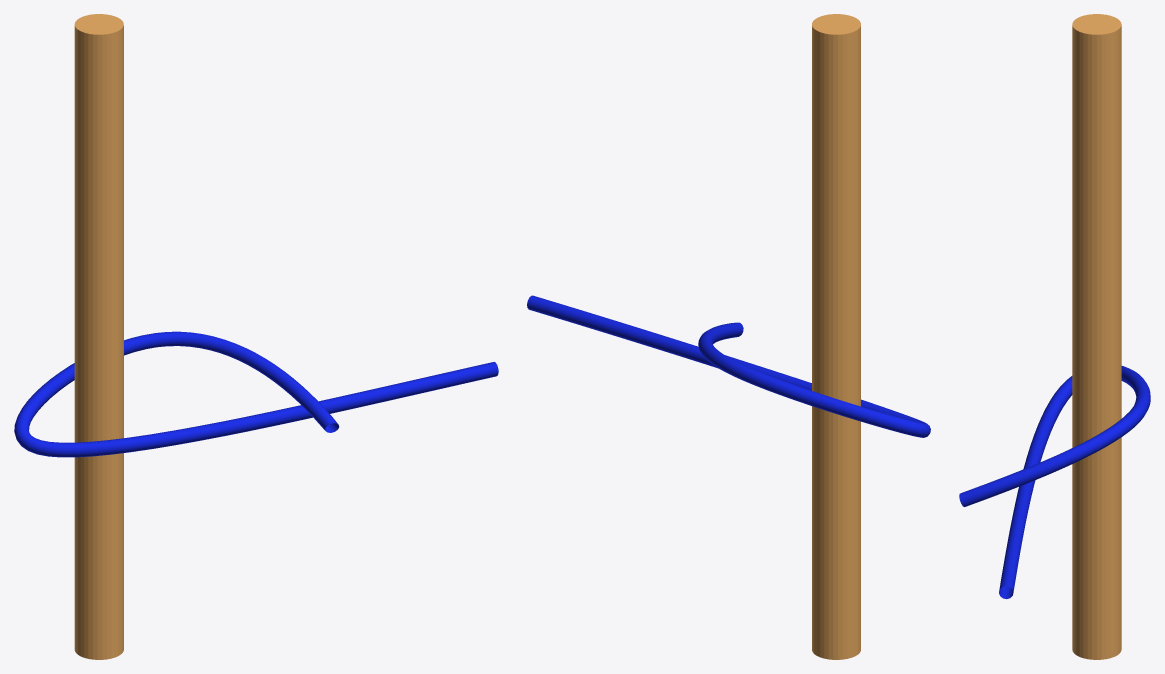
Rendered from TwoHalfHitchState3.dae.
3 views of the same model, side by side, from view 1: azimuth 30°, elevation 25°; view 2: azimuth 150°, elevation 25°; view 3: azimuth 270°, elevation 25° (orthographic).
Visible parts, largest first — view 1: Cylinder, NurbsCurve.001; view 2: Cylinder, NurbsCurve.001; view 3: Cylinder, NurbsCurve.001.
Boxes of the visible parts, x1,y1,x2,y2 form: Cylinder: [74, 14, 123, 659]; NurbsCurve.001: [14, 331, 498, 457]; Cylinder: [812, 14, 860, 659]; NurbsCurve.001: [527, 295, 930, 437]; Cylinder: [1072, 14, 1121, 659]; NurbsCurve.001: [959, 366, 1150, 599].
Bounding box in the file's own units: 1.03 × 0.3887 × 1.4.
